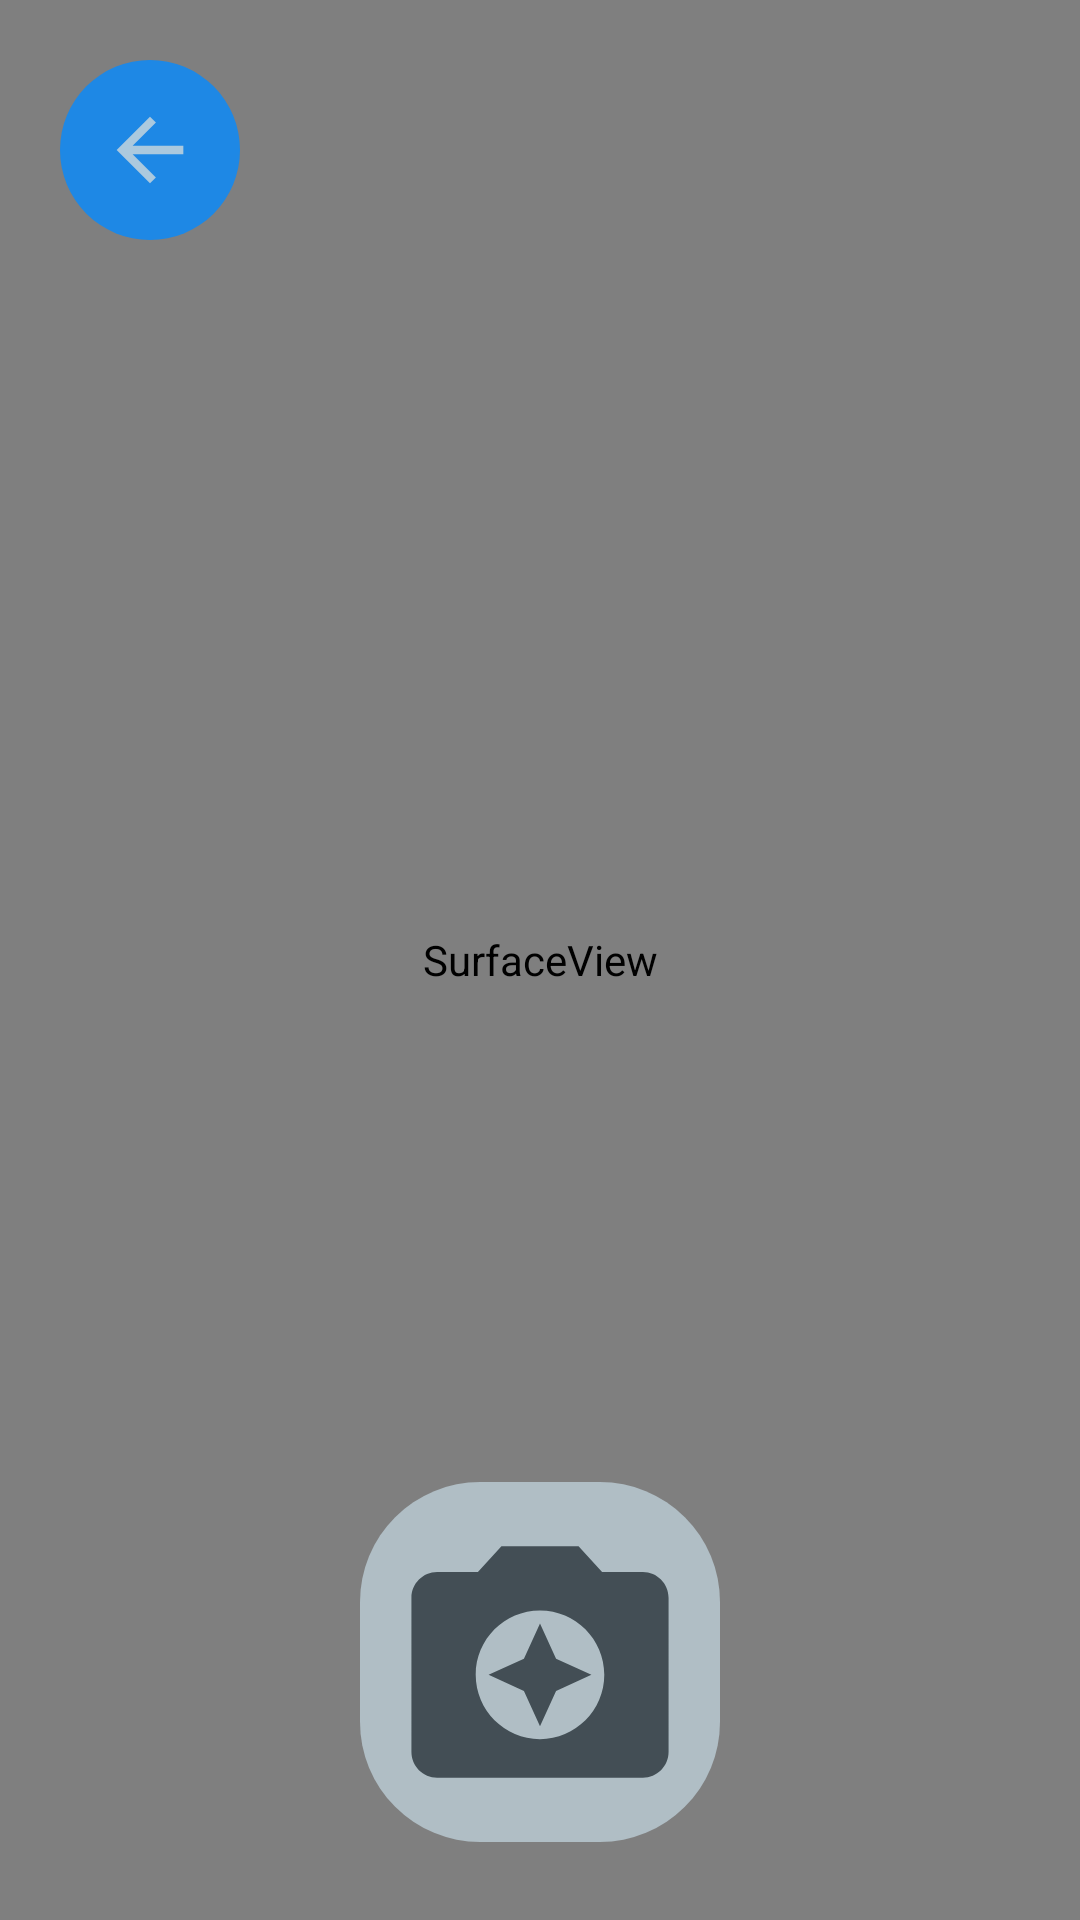

Icons on this 1080x1920 Android screen, each with the point to tap as (x,y):
Bk: (150,150)
